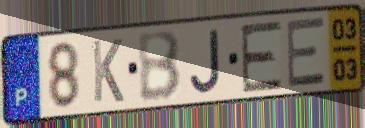8: (45, 39, 82, 112)
B: (135, 28, 183, 104)
E: (238, 18, 284, 95), (284, 15, 328, 90)
J: (188, 27, 224, 96)
K: (90, 36, 126, 105)
